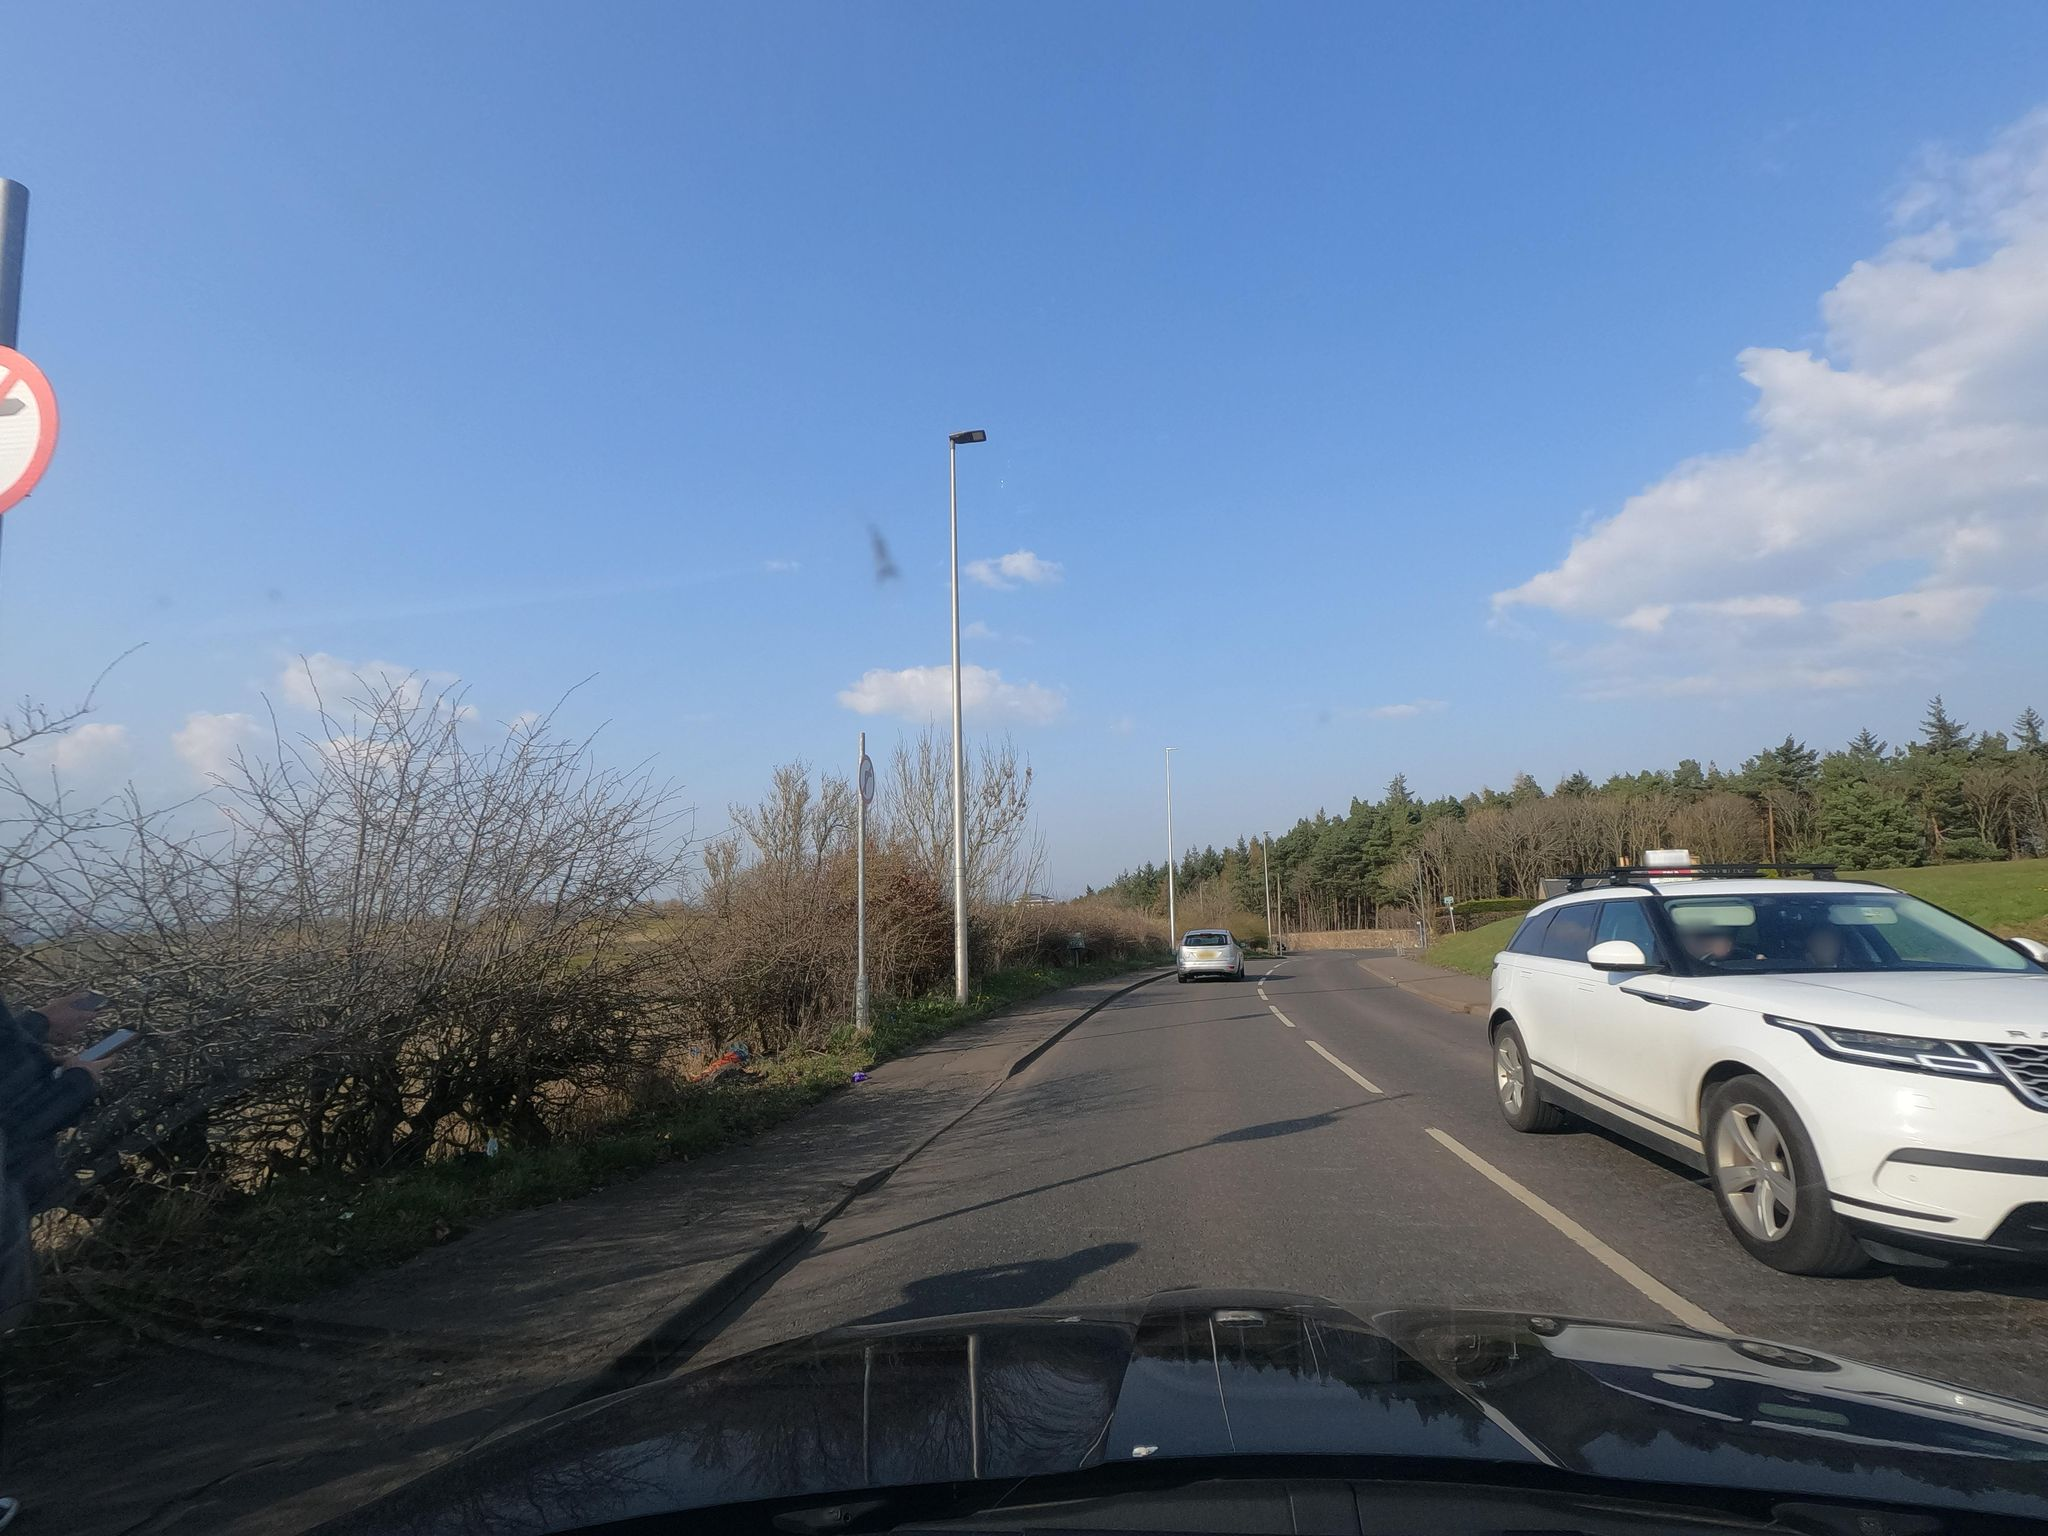car: (1480, 857, 2046, 1281), (1176, 928, 1247, 983)
